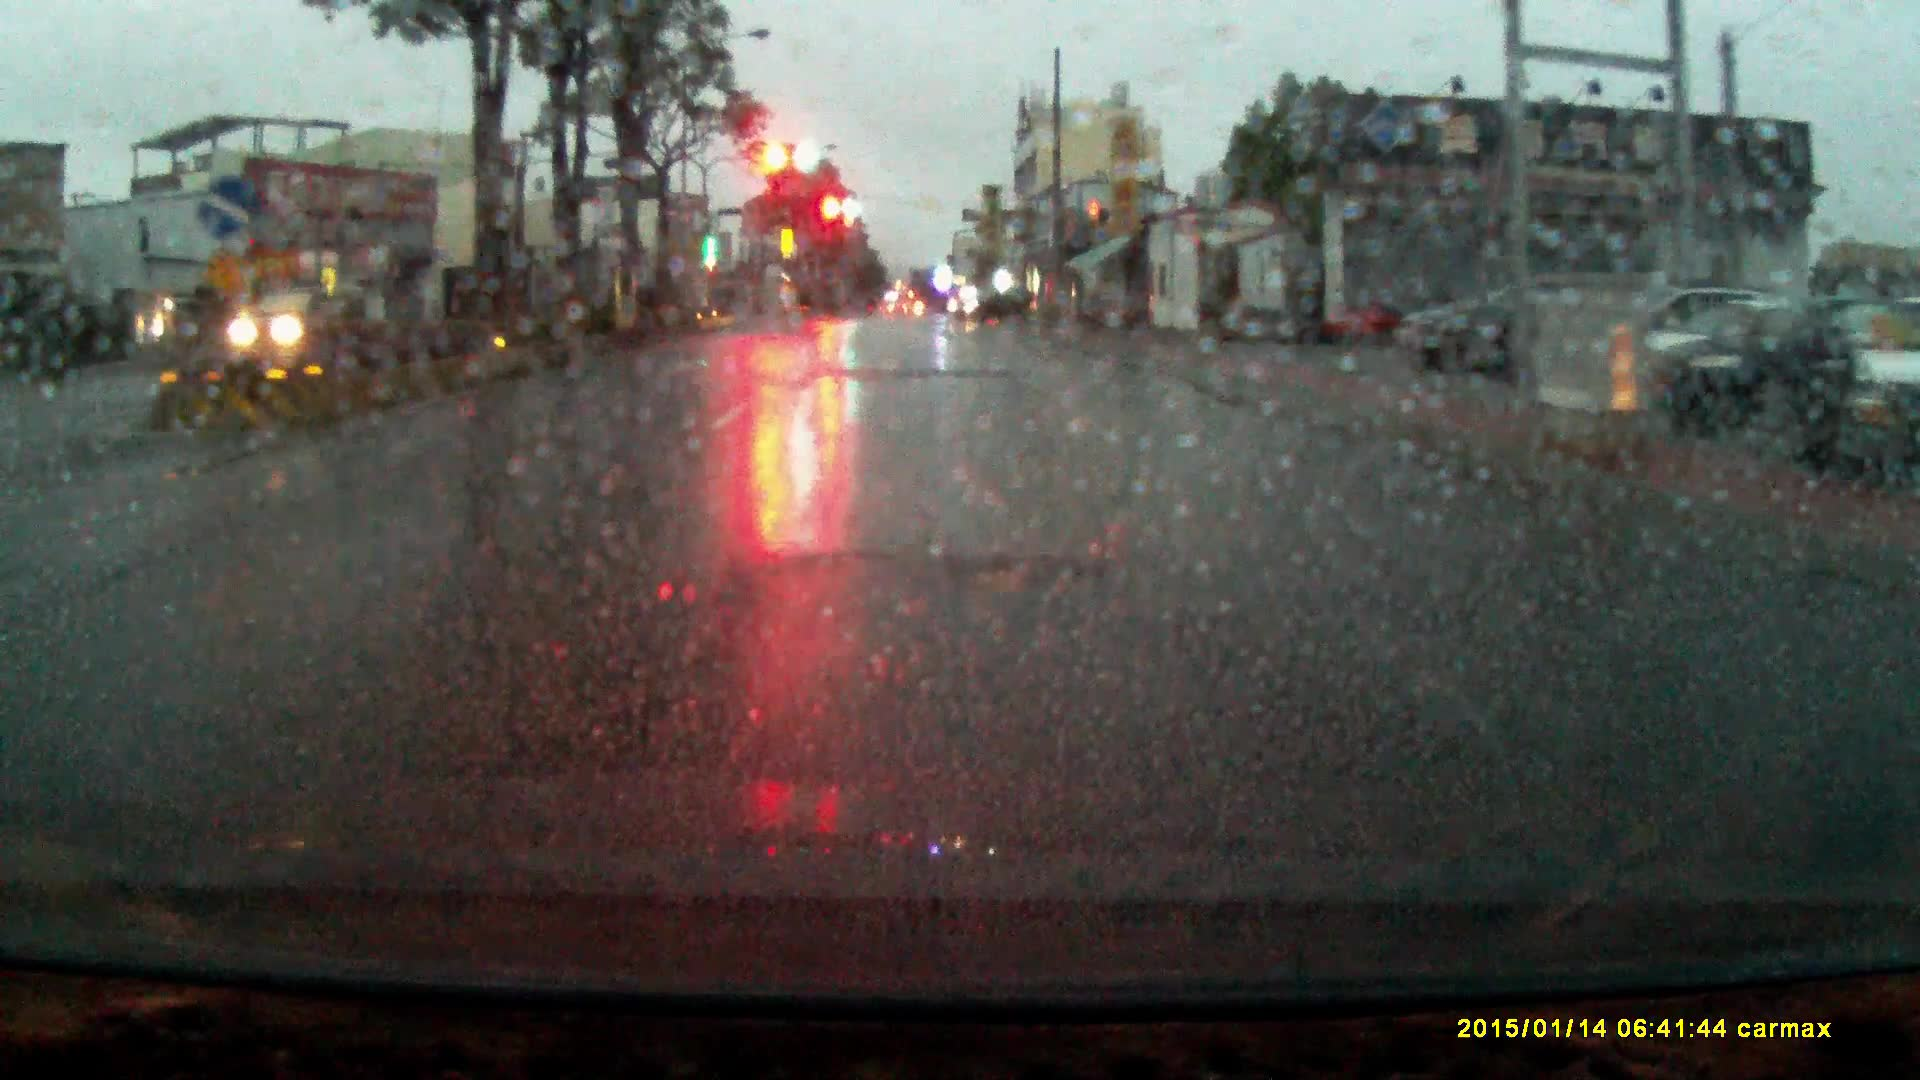vehicle: (1656, 297, 1871, 431), (1399, 289, 1607, 388), (1662, 299, 1821, 382), (229, 295, 342, 364), (949, 287, 1031, 330)
